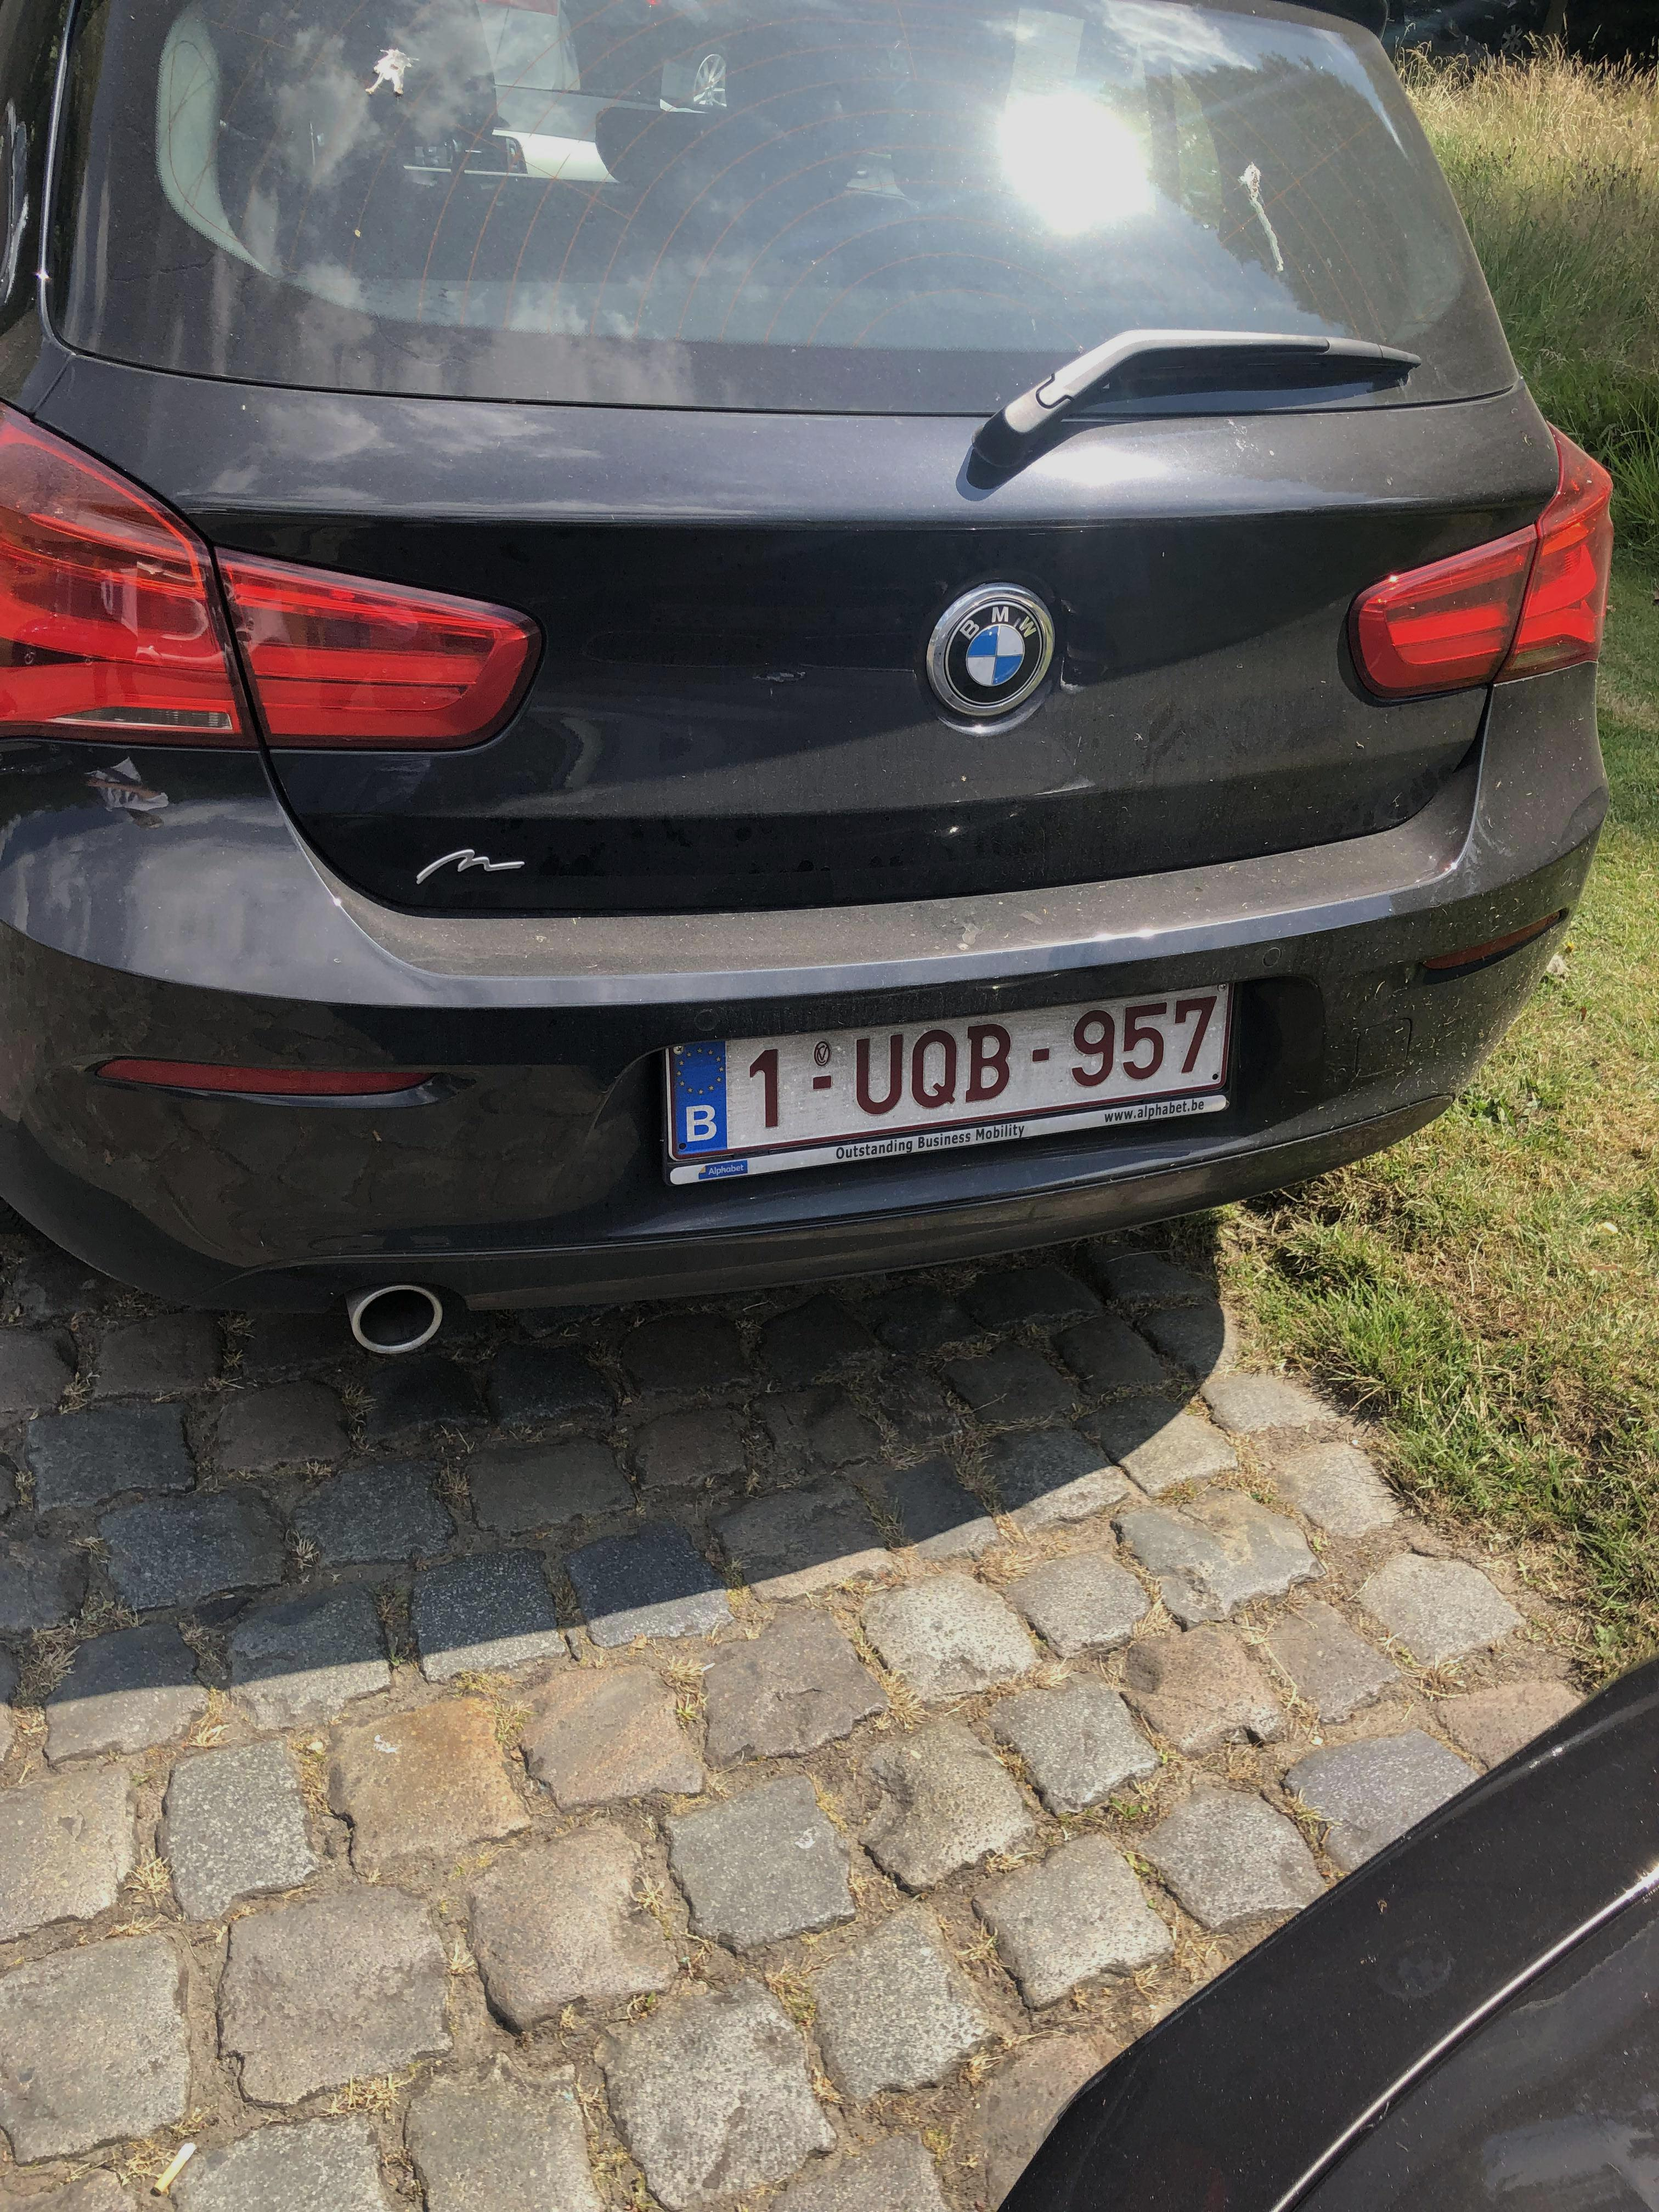plate: (629, 958, 1260, 1207)
